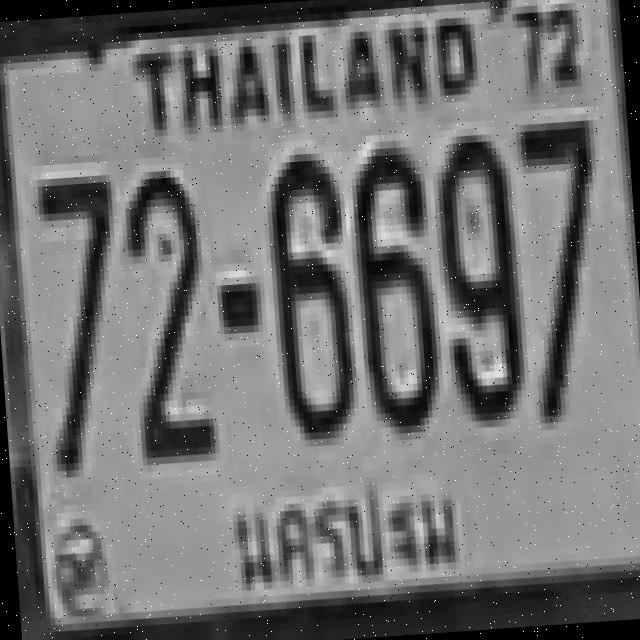2: (120, 165, 213, 454)
6: (344, 139, 437, 428), (264, 145, 352, 434)
7: (32, 168, 126, 471), (514, 113, 608, 416), (32, 168, 119, 374)
9: (430, 126, 522, 415)
NakhonPathom: (224, 468, 475, 613)
